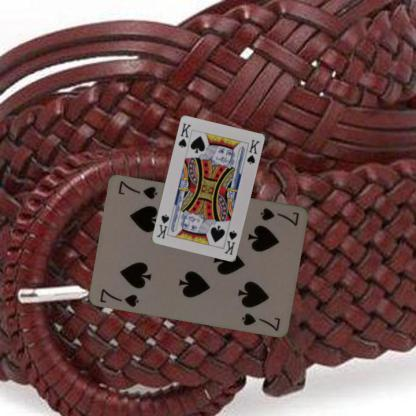7s: (97, 285, 141, 308), (258, 205, 302, 227)
Ks: (222, 228, 238, 257), (176, 121, 192, 150)
